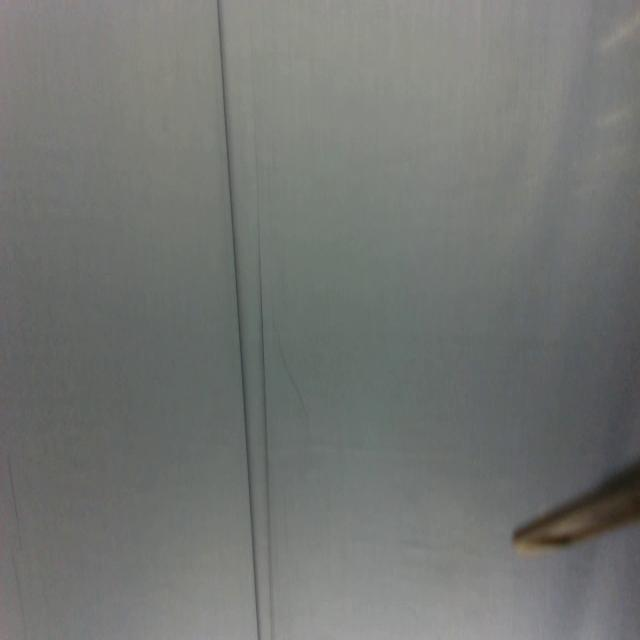crease: (214, 1, 260, 640), (256, 271, 276, 640), (276, 333, 310, 424), (9, 545, 28, 638), (6, 452, 20, 522)
